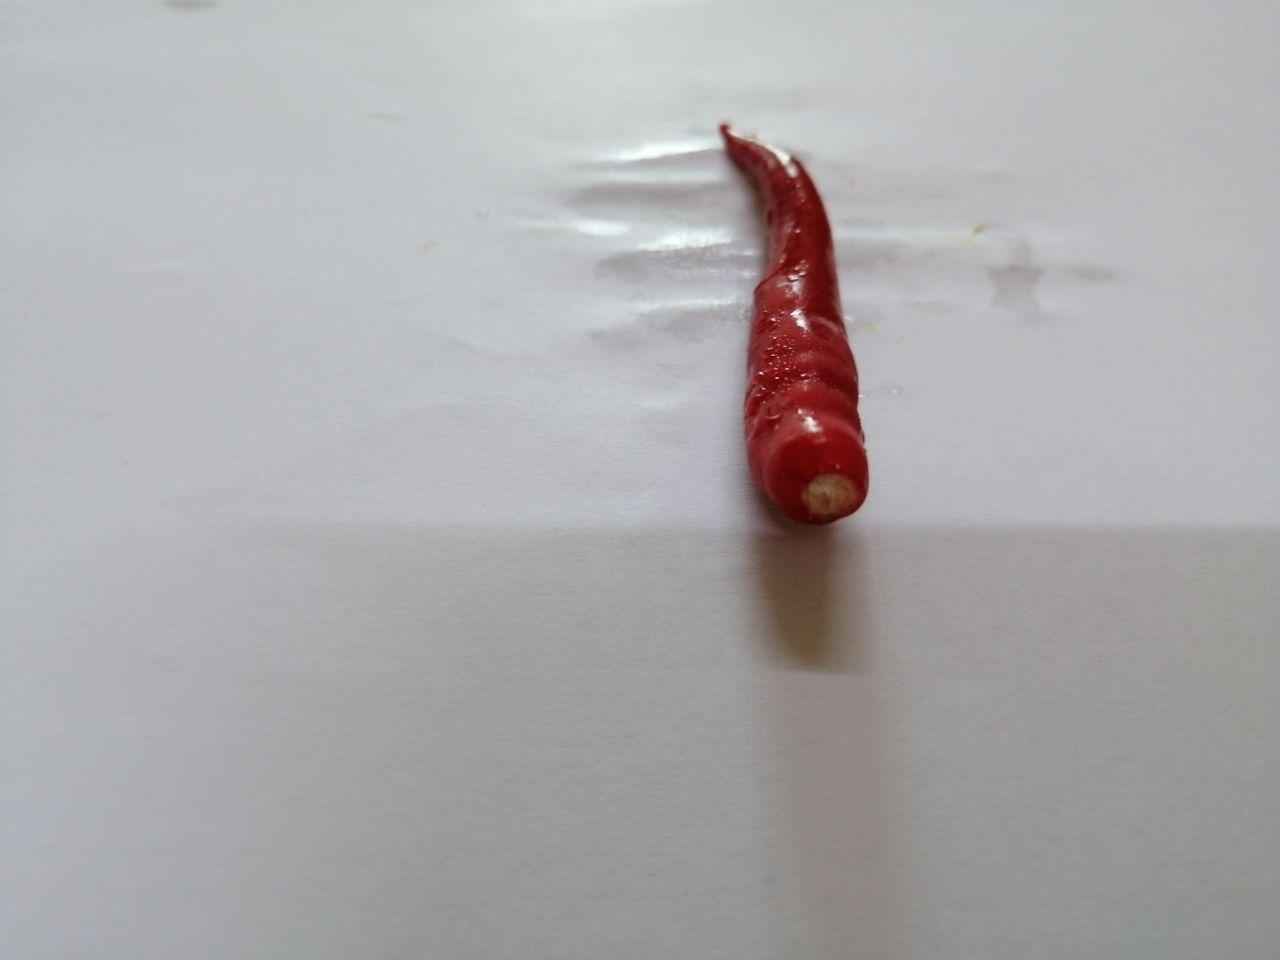lada merah: (702, 105, 883, 531)
